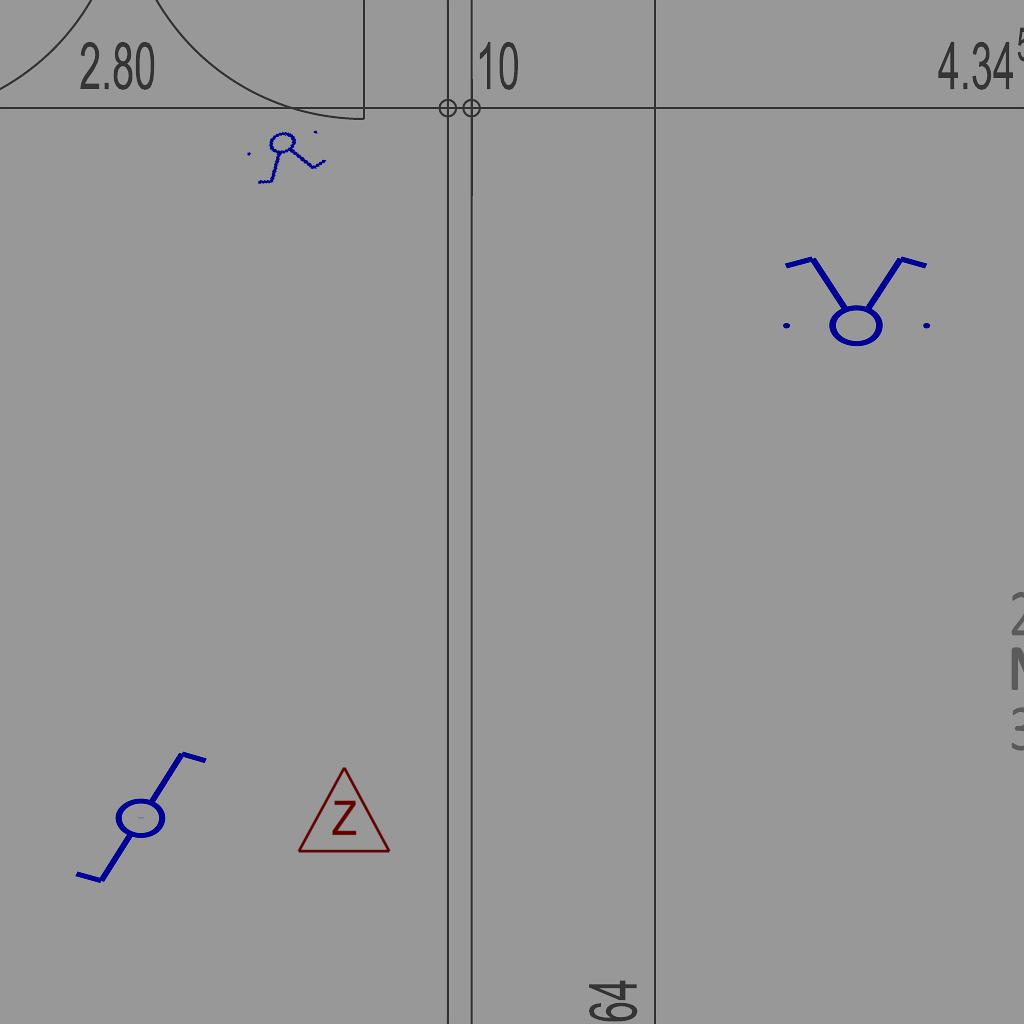Serienschalter: (771, 252, 939, 348), (239, 119, 335, 191)
Wechselschalter: (54, 744, 211, 888)
Zimmersignalleuchte: (294, 760, 392, 860)
